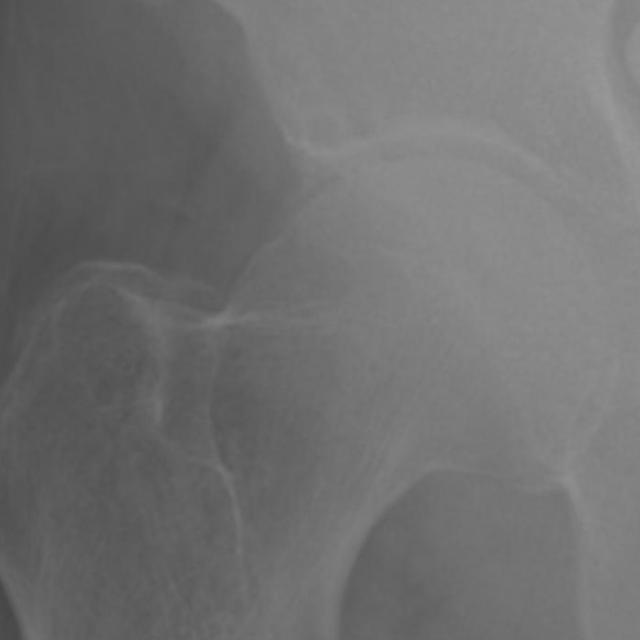Fitted_femural_head: (375, 159, 432, 375)
